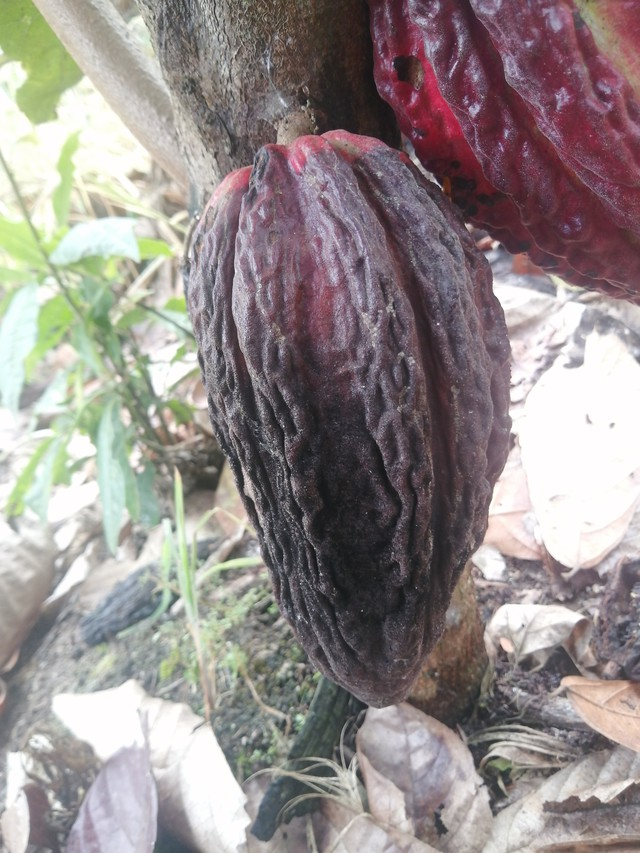phytophthora palmivora: (174, 122, 522, 718)
